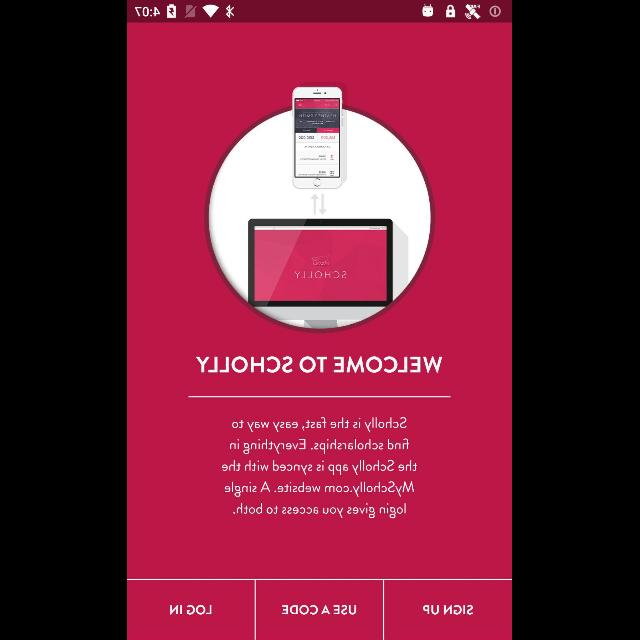image: (206, 82, 437, 334)
text: (222, 417, 418, 519), (196, 356, 444, 374)
textbutton: (256, 578, 384, 640), (128, 578, 256, 640), (385, 578, 513, 640)
uppertaskbar: (128, 1, 512, 23)
